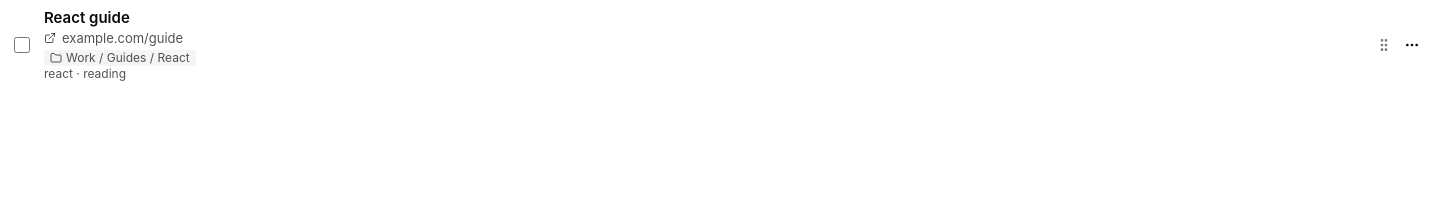
Test: BookmarkRow › opens 컬렉션 이동 from the item menu with its focus return target
The width and height of the screenshot is (1440, 224).
Press ArrowDown in the button named "React guide 항목 메뉴", box [1396,29,1428,61]
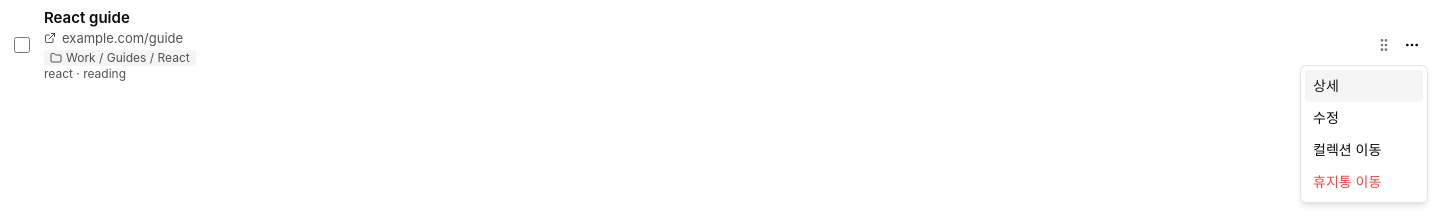
Expected: the menu is shown, [1300,65,1428,203]
Click the menu item "컬렉션 이동". click: (1347, 150)
box: [1313,141,1381,158]
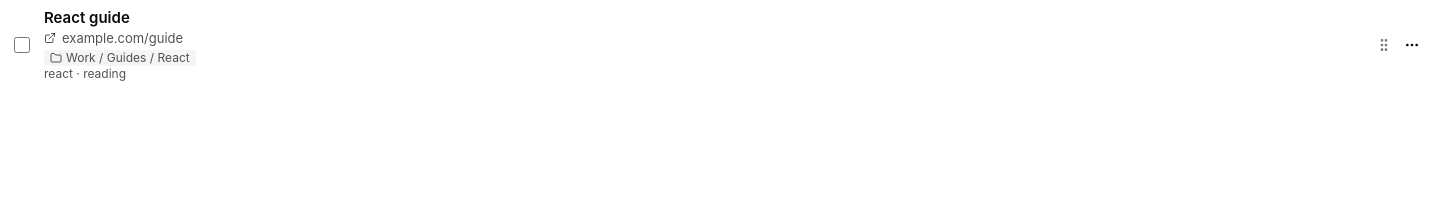
Expected: the menu is gone
